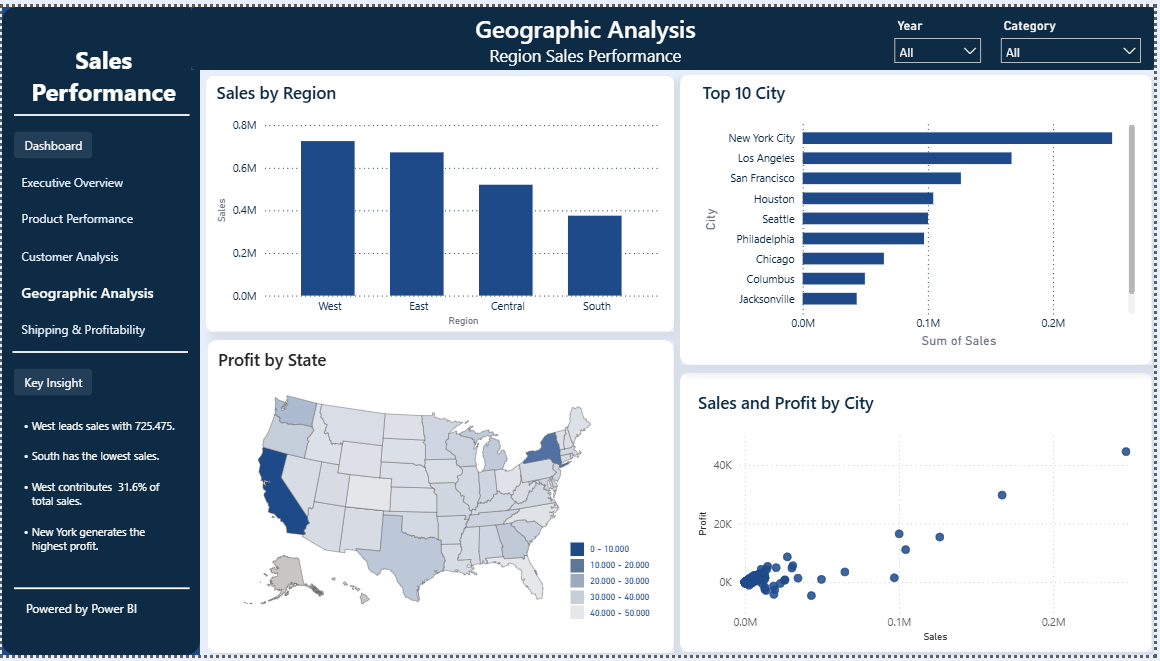

What the dashboard file says about the page in this screenshot:
{"tool":"powerbi","page":{"name":"Geographic Analysis","canvas":[1280,720],"ordinal":3},"visuals":[{"type":"shape","box":[0,0,220,720],"z":0},{"type":"shape","box":[226,76,520,284],"z":1000},{"type":"shape","box":[228,370,518,348],"z":2000},{"type":"shape","box":[752.6,407.3,523.9,310],"z":3000},{"type":"shape","box":[752.6,74.2,523.9,322.5],"z":4000},{"type":"shape","box":[210,0,1070,70],"z":5000},{"type":"clusteredBarChart","title":"Top 10 City","fields":{"Y":["Sum(Sample___Superstore.Sales)"],"Category":["Sample___Superstore.City"]},"box":[773.8,81.8,490.6,301.3],"z":6000},{"type":"scatterChart","fields":{"X":["Sum(Sample___Superstore.Sales)"],"Y":["Sum(Sample___Superstore.Profit)"],"Category":["Sample___Superstore.City"]},"box":[768,426,504,284],"z":7000},{"type":"clusteredColumnChart","title":"Sales by Region","fields":{"Category":["Sample___Superstore.Region"],"Y":["Sum(Sample___Superstore.Sales)"]},"box":[234,82,504,278],"z":8000},{"type":"shapeMap","title":"Profit by State","fields":{"Category":["Sample___Superstore.State"],"Value":["Sum(Sample___Superstore.Profit)"]},"box":[234.3,378.6,452.9,302.9],"z":9000},{"type":"group","id":"g1","title":"Group 1","box":[631.6,584.9,102.9,102.9],"z":10000},{"type":"pageNavigator","box":[21.7,178.3,180,195],"z":11000},{"type":"shape","box":[631.6,594.9,15,15],"z":11000,"group":"g1"},{"type":"textbox","box":[3.1,34.6,219.2,88.5],"z":12000},{"type":"textbox","box":[648.7,584.9,85.7,102.9],"z":12000,"group":"g1"},{"type":"shape","box":[631.6,612.6,15,15],"z":13000,"group":"g1"},{"type":"textbox","box":[21.7,653.3,170,35],"z":13000},{"type":"shape","box":[12.5,110.8,195,16.7],"z":14000},{"type":"shape","box":[631.6,630.3,15,15],"z":14000,"group":"g1"},{"type":"shape","box":[13.3,630,195,31.7],"z":15000},{"type":"shape","box":[631.6,647.9,15,15],"z":15000,"group":"g1"},{"type":"textbox","box":[393.3,0,510,70],"z":16000},{"type":"shape","box":[631.6,665.6,15,15],"z":16000,"group":"g1"},{"type":"slicer","fields":{"Values":["Sample___Superstore.Category"]},"box":[1100,6.1,175,58.8],"z":17000},{"type":"slicer","fields":{"Values":["Sample___Superstore.ad_date.Variation.Date Hierarchy.Year"]},"box":[981.2,6.1,116.6,59.1],"z":18000},{"type":"textbox","box":[15.8,137.5,80.8,30],"z":19000},{"type":"textbox","box":[15.8,400.8,80.8,30],"z":20000},{"type":"textbox","box":[10.6,451.2,190.8,177.2],"z":21000},{"type":"shape","box":[12.5,138.3,86.7,30],"z":22000},{"type":"shape","box":[13.3,401.7,86.7,30],"z":23000},{"type":"shape","box":[11.7,368.3,195,30],"z":24000}]}

Visuals, with their boxes in screenshot pixels (x1, y1, x2, y2), scaled from the page's 1280x720 canvas onto the 1160x661 screenshot:
shape: locate(0, 0, 199, 660)
shape: locate(205, 70, 676, 330)
shape: locate(207, 340, 676, 659)
shape: locate(682, 374, 1157, 659)
shape: locate(682, 68, 1157, 364)
shape: locate(190, 0, 1159, 64)
"Top 10 City" clusteredBarChart: locate(701, 75, 1146, 352)
scatterChart - Sum(Sample___Superstore.Sales) x Sum(Sample___Superstore.Profit): locate(696, 391, 1153, 652)
"Sales by Region" clusteredColumnChart: locate(212, 75, 669, 330)
"Profit by State" shapeMap: locate(212, 348, 623, 626)
"Group 1" group: locate(572, 537, 666, 631)
pageNavigator: locate(20, 164, 183, 343)
shape: locate(572, 546, 586, 560)
textbox: locate(3, 32, 201, 113)
textbox: locate(588, 537, 666, 631)
shape: locate(572, 562, 586, 576)
textbox: locate(20, 600, 174, 632)
shape: locate(11, 102, 188, 117)
shape: locate(572, 579, 586, 592)
shape: locate(12, 578, 189, 607)
shape: locate(572, 595, 586, 609)
textbox: locate(356, 0, 819, 64)
shape: locate(572, 611, 586, 625)
slicer - Sample___Superstore.Category: locate(997, 6, 1155, 60)
slicer - Sample___Superstore.ad_date.Variation.Date Hierarchy.Year: locate(889, 6, 995, 60)
textbox: locate(14, 126, 88, 154)
textbox: locate(14, 368, 88, 395)
textbox: locate(10, 414, 183, 577)
shape: locate(11, 127, 90, 155)
shape: locate(12, 369, 91, 396)
shape: locate(11, 338, 187, 366)
